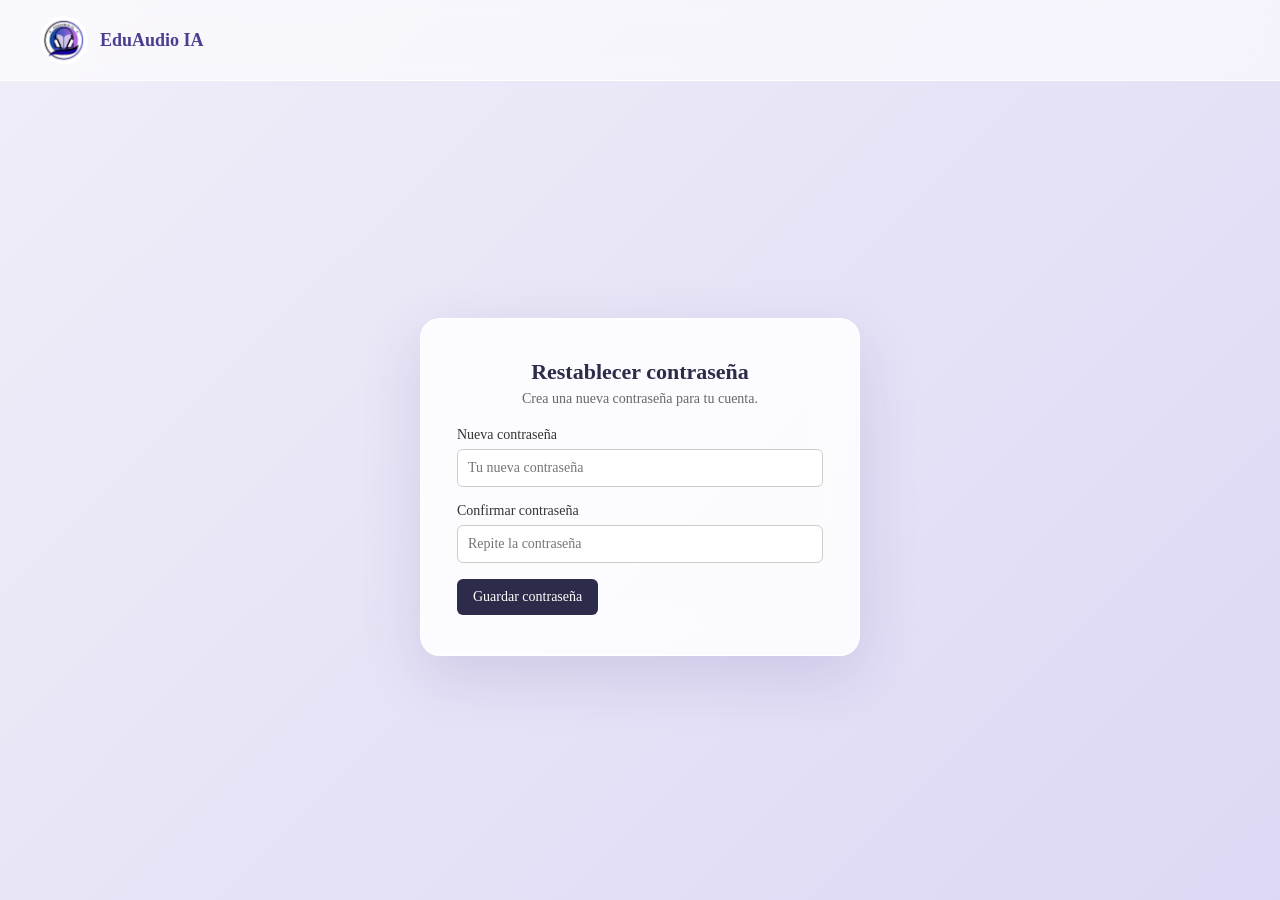
Test case: ResetPassword › muestra error si la contraseña tiene menos de 8 caracteres
Type "123456" into the password field with placeholder "Tu nueva contraseña" at (640, 468), box [457,448,823,486]
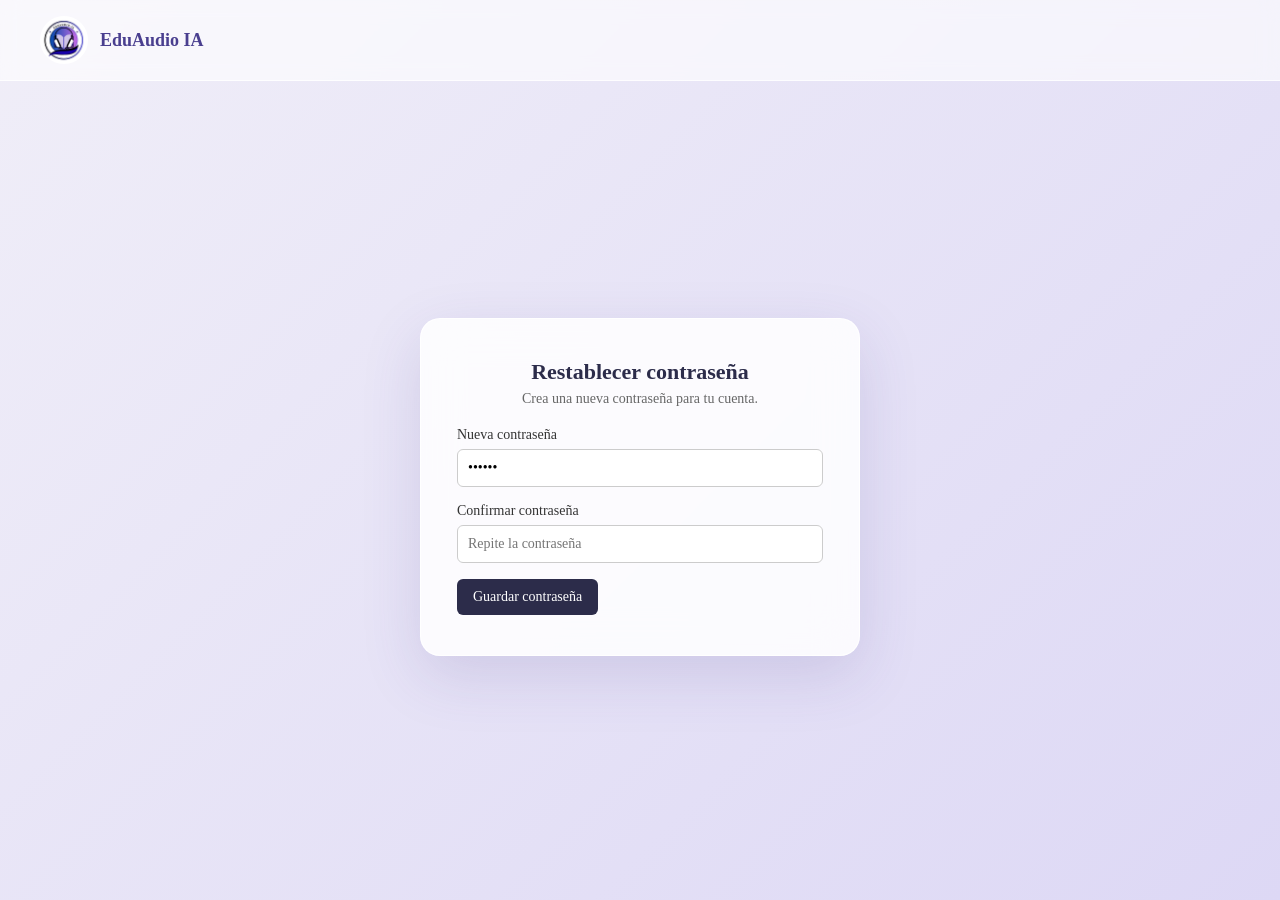
Type "123456" into the password field with placeholder "Repite la contraseña" at (640, 544), box [457,524,823,562]
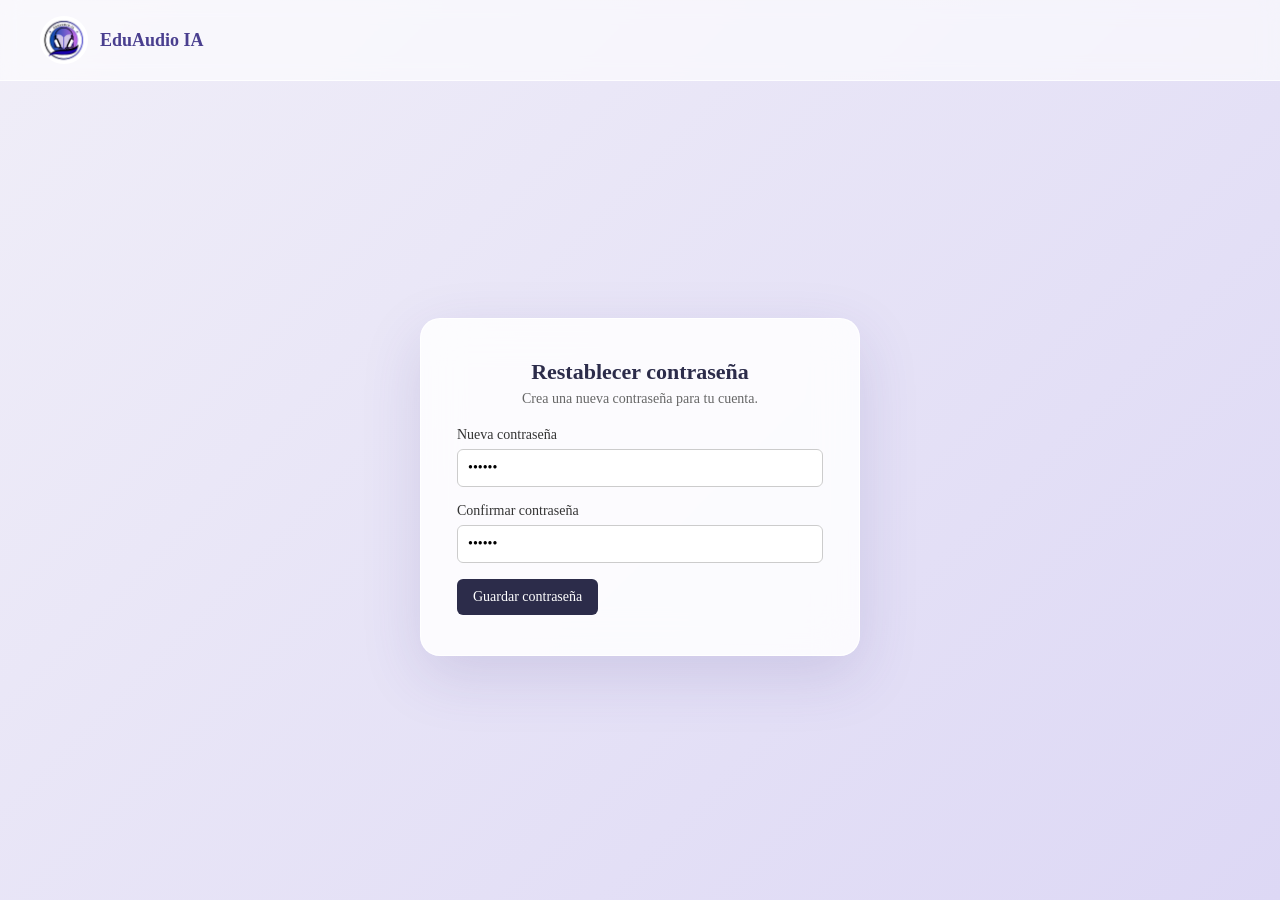
Click the button "Guardar contraseña" at (528, 596), box [457,578,598,614]
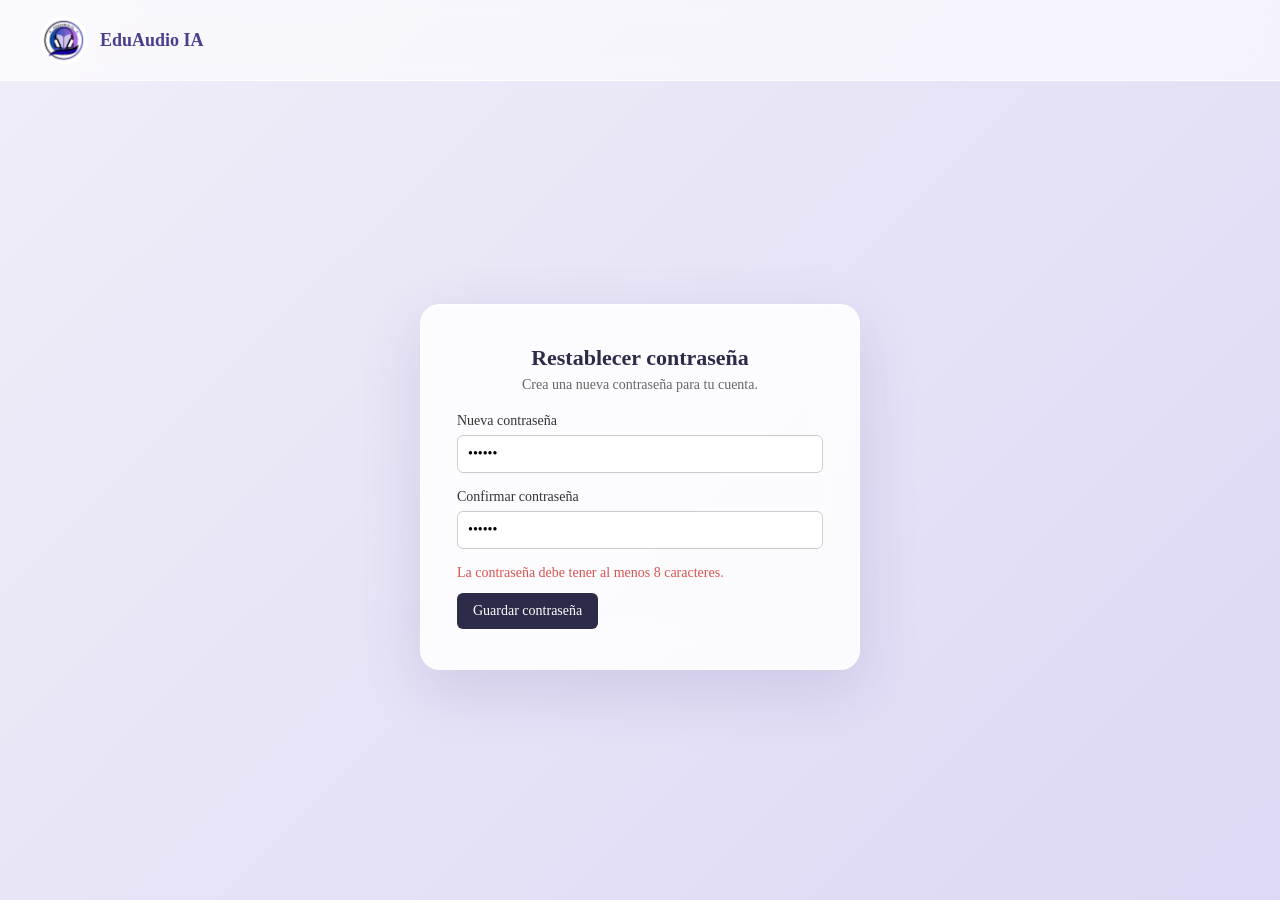
Expected: the text "La contraseña debe tener al menos 8 caracteres." is shown, [457,564,724,580]
